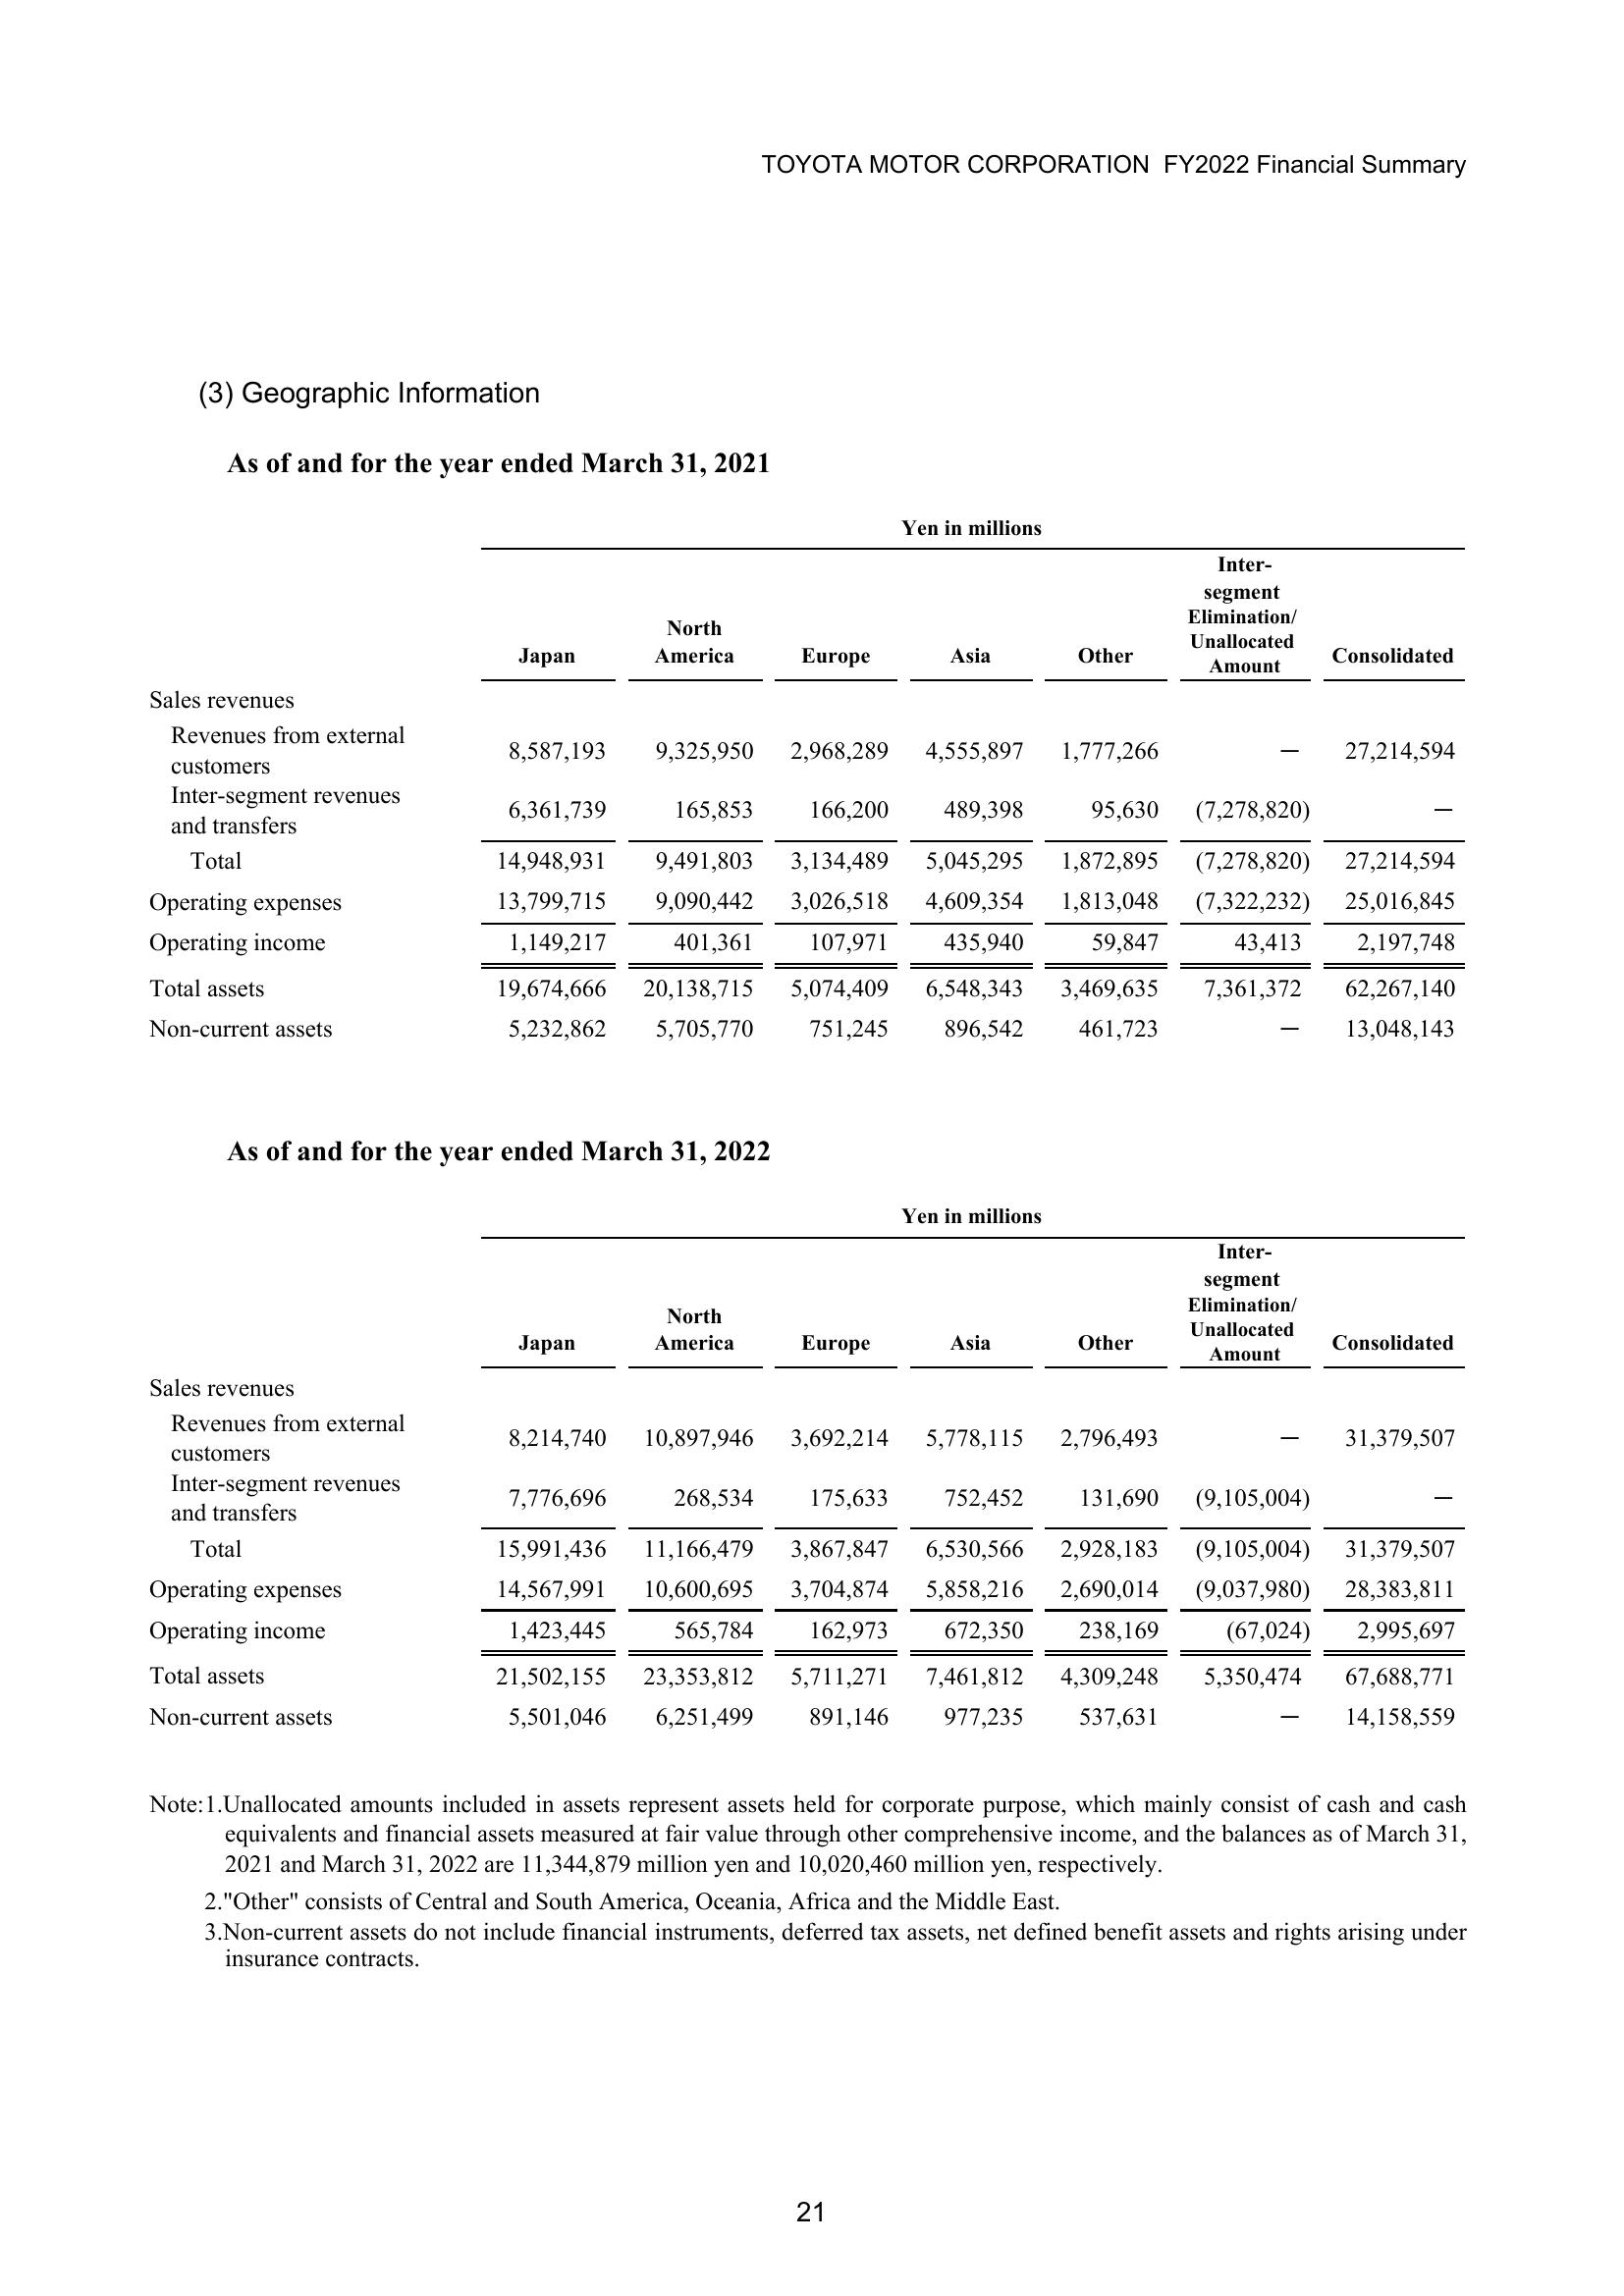Footer: (0, 2157, 1624, 2296)
Header: (0, 0, 1624, 202)
Table: (86, 483, 1547, 1082), (86, 1186, 1487, 1758)
